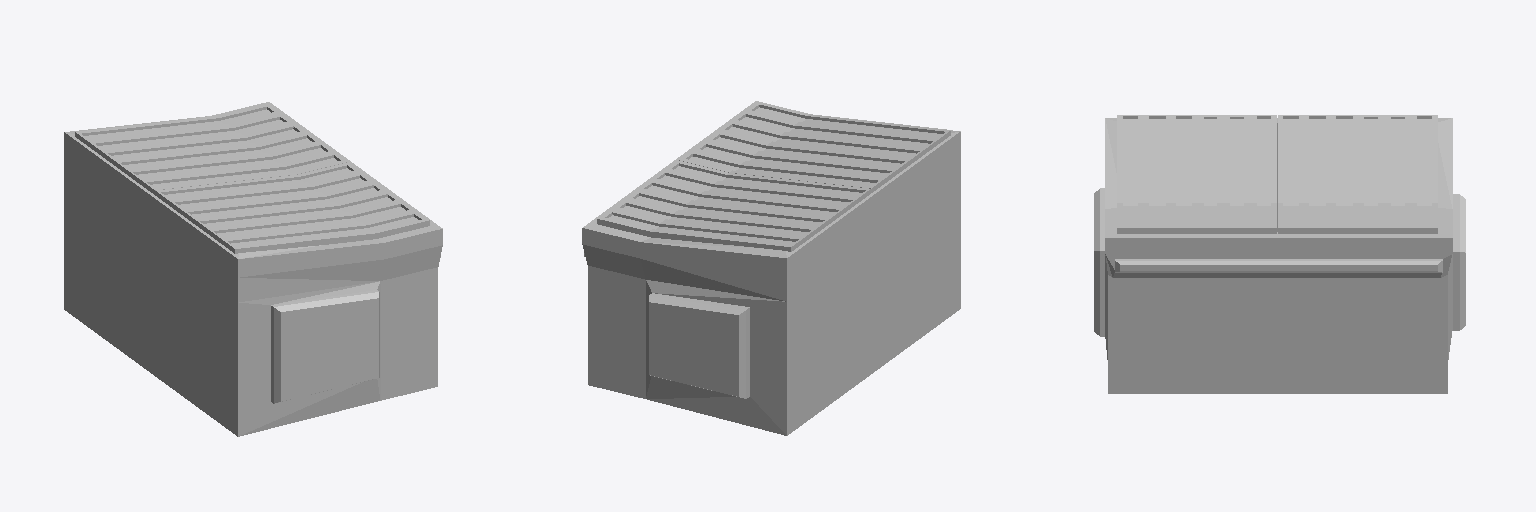
The model's file is DumpsterClosed.obj.
The picture shows the model from 3 angles: view 1: azimuth 30°, elevation 25°; view 2: azimuth 150°, elevation 25°; view 3: azimuth 270°, elevation 25°; orthographic projection.
Visible parts, largest first — view 1: Cube_Cube.001, Cube.001_Cube.002; view 2: Cube_Cube.001, Cube.001_Cube.002; view 3: Cube_Cube.001, Cube.001_Cube.002.
Boxes of the visible parts, box(x1,y1,x2,y2) form: Cube_Cube.001: box(64, 102, 442, 436); Cube.001_Cube.002: box(75, 103, 429, 253); Cube_Cube.001: box(582, 101, 960, 435); Cube.001_Cube.002: box(597, 101, 950, 251); Cube_Cube.001: box(1094, 118, 1465, 393); Cube.001_Cube.002: box(1117, 115, 1437, 233).
Bounding box in the file's own units: 0.197 × 0.1632 × 0.302.